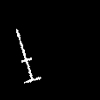double_crochet: (16, 29, 40, 82)
